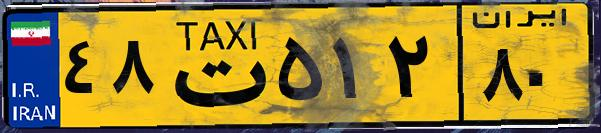0: (525, 38, 570, 115)
1: (330, 28, 385, 110)
2: (385, 28, 445, 110)
4: (57, 26, 110, 100)
5: (270, 28, 330, 110)
8: (475, 38, 525, 113), (110, 28, 158, 98)
ت: (158, 12, 270, 120)
